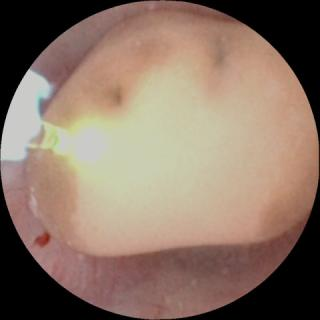laser: (53, 126, 71, 154)
stone: (31, 12, 314, 255)
